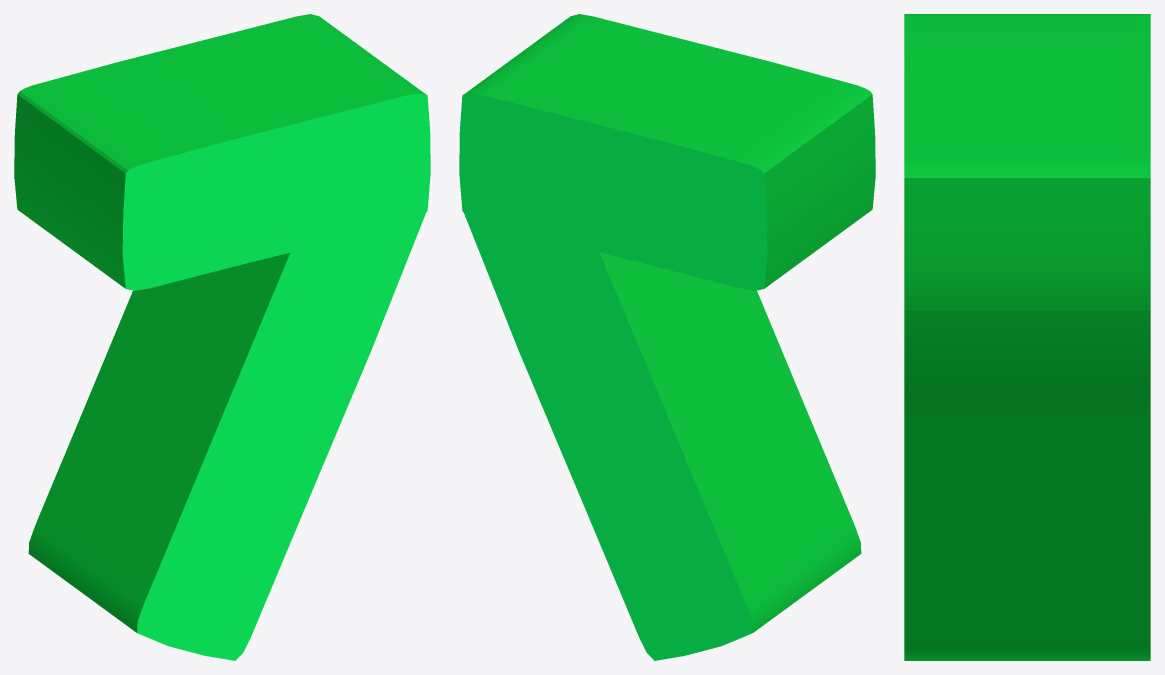
3 views of the same model, side by side, from view 1: azimuth 30°, elevation 25°; view 2: azimuth 150°, elevation 25°; view 3: azimuth 270°, elevation 25° (orthographic). The views are drawn at different scales.
Visible parts, largest first — view 1: 7_Zyzol_Green; view 2: 7_Zyzol_Green; view 3: 7_Zyzol_Green.
Part boxes in pixels (box(x1,y1,x2,y2)): 7_Zyzol_Green: box(14, 14, 430, 660); 7_Zyzol_Green: box(459, 14, 875, 660); 7_Zyzol_Green: box(904, 14, 1150, 660).
Size of what is drawn, in the model's own units: 0.0738 by 0.12 by 0.045.
Materials: 2 (2 with a texture image).
